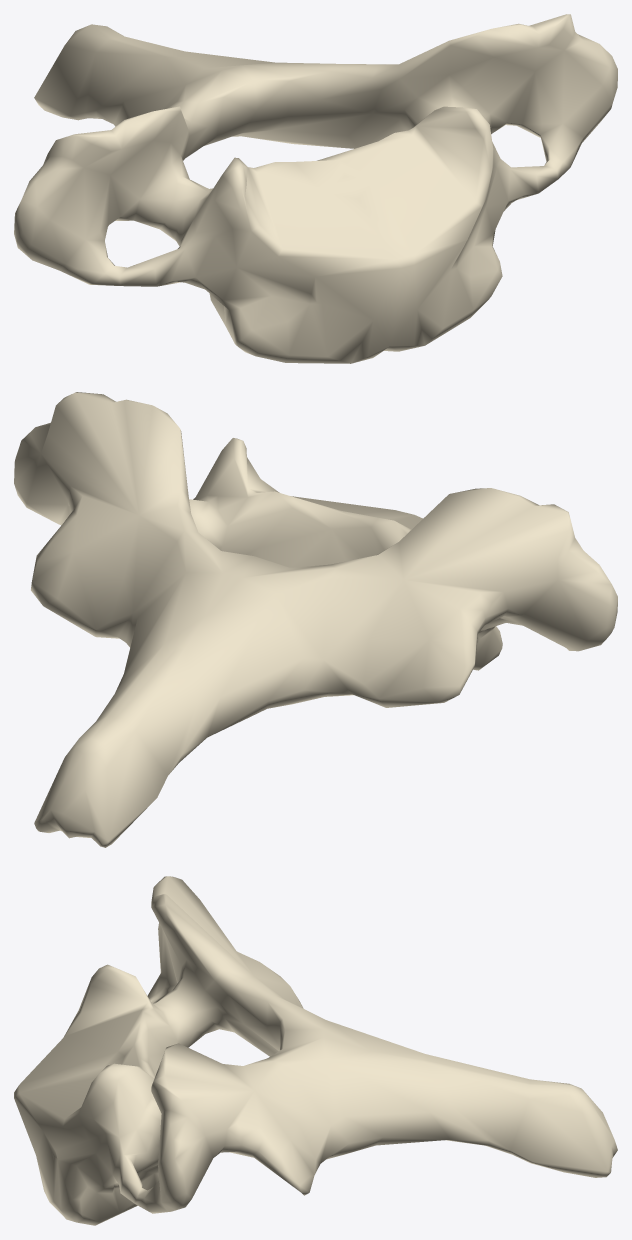
Rendered from esqueleto-vertebra-c7.glb.
The picture shows the model from 3 angles, top to bottom: view 1: azimuth 30°, elevation 25°; view 2: azimuth 150°, elevation 25°; view 3: azimuth 270°, elevation 25°; orthographic projection. The views are drawn at different scales.
Parts seen in each view (by area): view 1: Vertebra C7; view 2: Vertebra C7; view 3: Vertebra C7.
Part boxes in pixels (bbox=[...]): Vertebra C7: bbox=[14, 14, 617, 363]; Vertebra C7: bbox=[14, 392, 617, 847]; Vertebra C7: bbox=[14, 876, 617, 1225].
Bounding box in the file's own units: 0.0712 × 0.027 × 0.0703.
